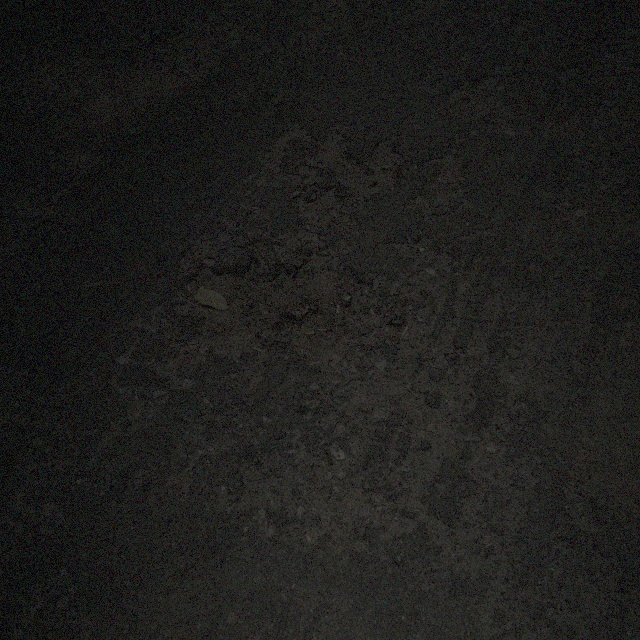pothole: (166, 242, 388, 367), (264, 125, 406, 228)
